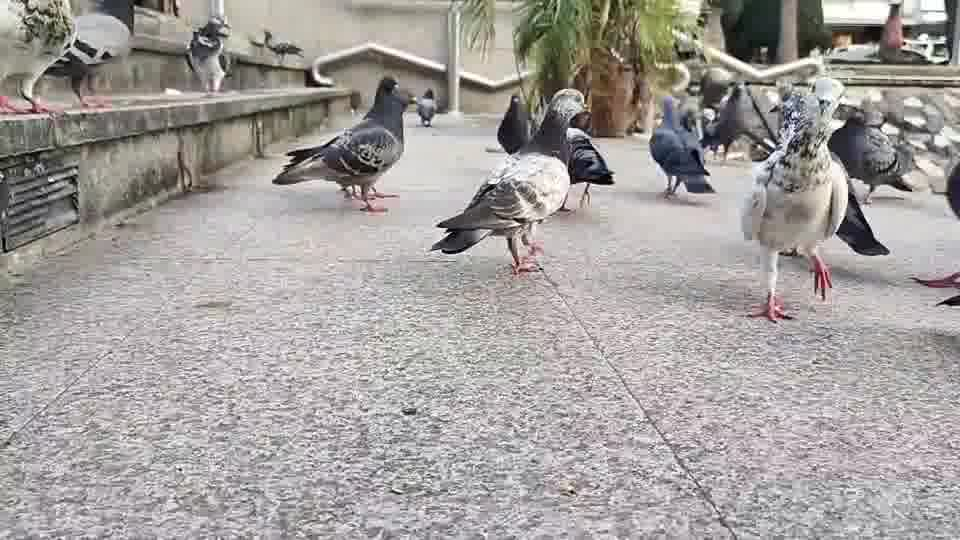Pigeon: (741, 79, 889, 323), (427, 87, 591, 275), (271, 76, 408, 212), (826, 101, 915, 205), (0, 0, 77, 115), (41, 12, 131, 109), (908, 159, 959, 307), (647, 95, 716, 200), (562, 125, 615, 208), (183, 14, 233, 93), (263, 29, 304, 64), (411, 87, 439, 127)
